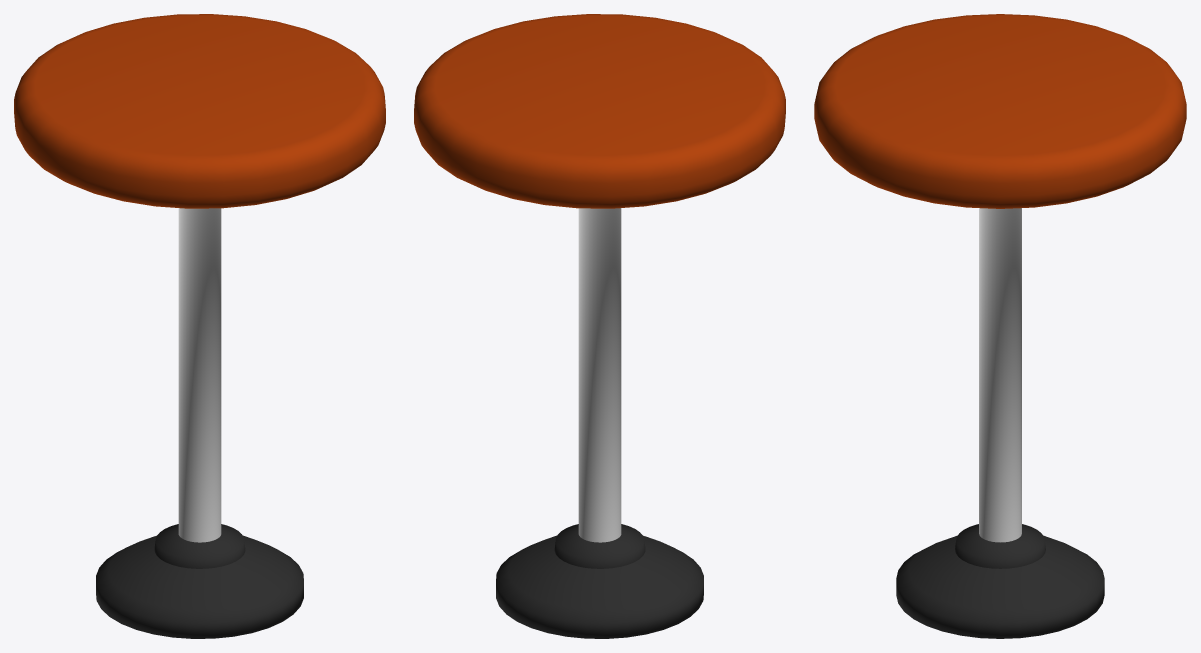
File: Chair_Fixed.fbx
The picture shows the model from 3 angles, left to right: view 1: azimuth 30°, elevation 25°; view 2: azimuth 150°, elevation 25°; view 3: azimuth 270°, elevation 25°; orthographic projection.
Parts seen in each view (by area): view 1: Chair_Fixed; view 2: Chair_Fixed; view 3: Chair_Fixed.
Boxes of the visible parts, x1,y1,x2,y2 form: Chair_Fixed: [14, 14, 385, 638]; Chair_Fixed: [414, 14, 785, 638]; Chair_Fixed: [814, 14, 1186, 638].
Bounding box in the file's own units: 1.19 × 1.19 × 1.8.
